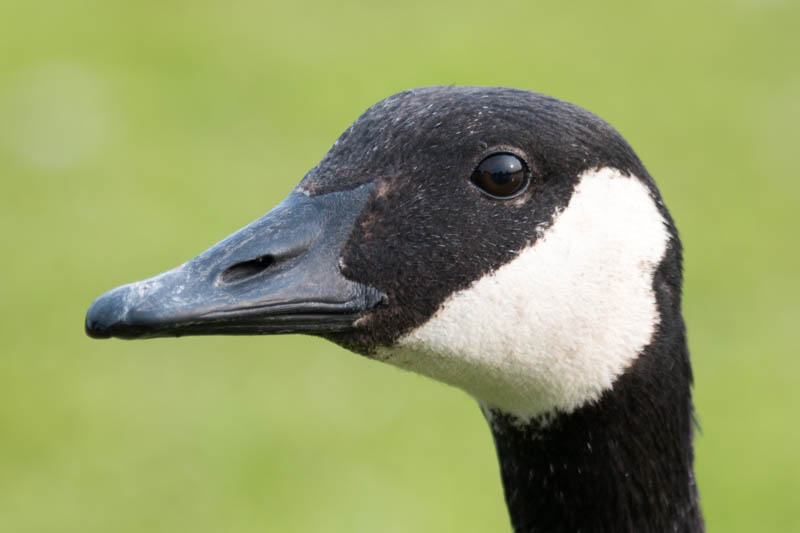goose-head: (83, 85, 692, 423)
